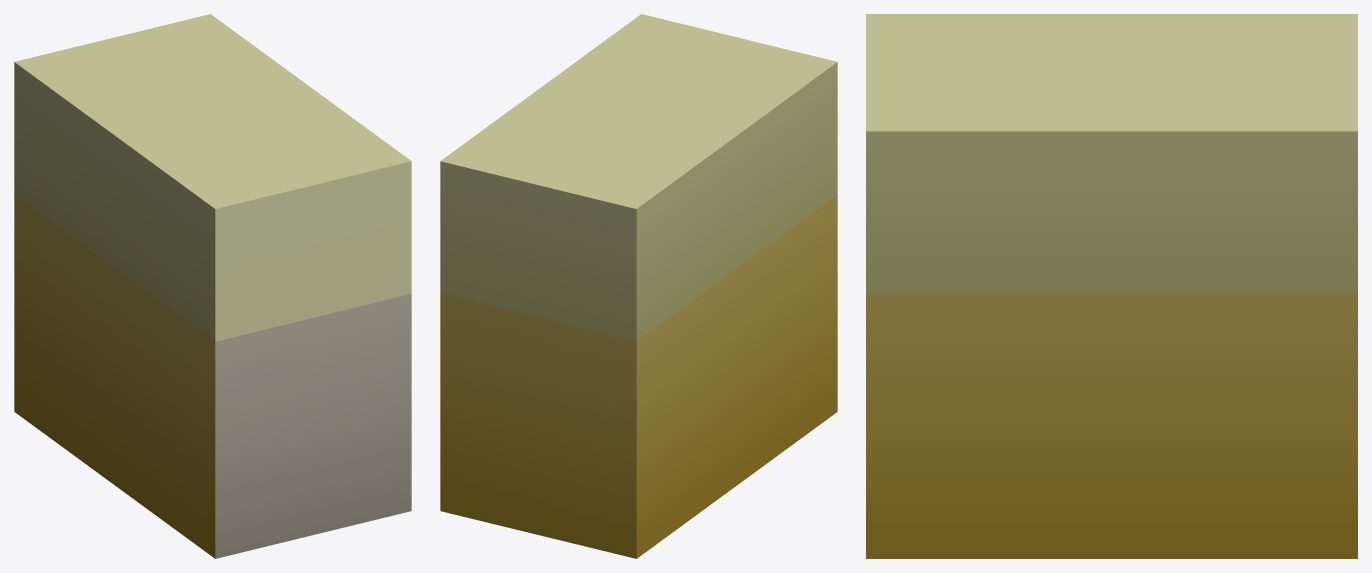
Rendered from SM_CityVistaBuilding_04.fbx.
The picture shows the model from 3 angles, left to right: view 1: azimuth 30°, elevation 25°; view 2: azimuth 150°, elevation 25°; view 3: azimuth 270°, elevation 25°; orthographic projection. The views are drawn at different scales.
Visible parts, largest first — view 1: SM_CityVistaBuilding_04; view 2: SM_CityVistaBuilding_04; view 3: SM_CityVistaBuilding_04.
Part boxes in pixels (<box>): SM_CityVistaBuilding_04: <box>14,14,411,558</box>; SM_CityVistaBuilding_04: <box>440,14,837,558</box>; SM_CityVistaBuilding_04: <box>866,14,1357,558</box>.
Size of the model in its own units: 5.6 by 9.53 by 9.94.
